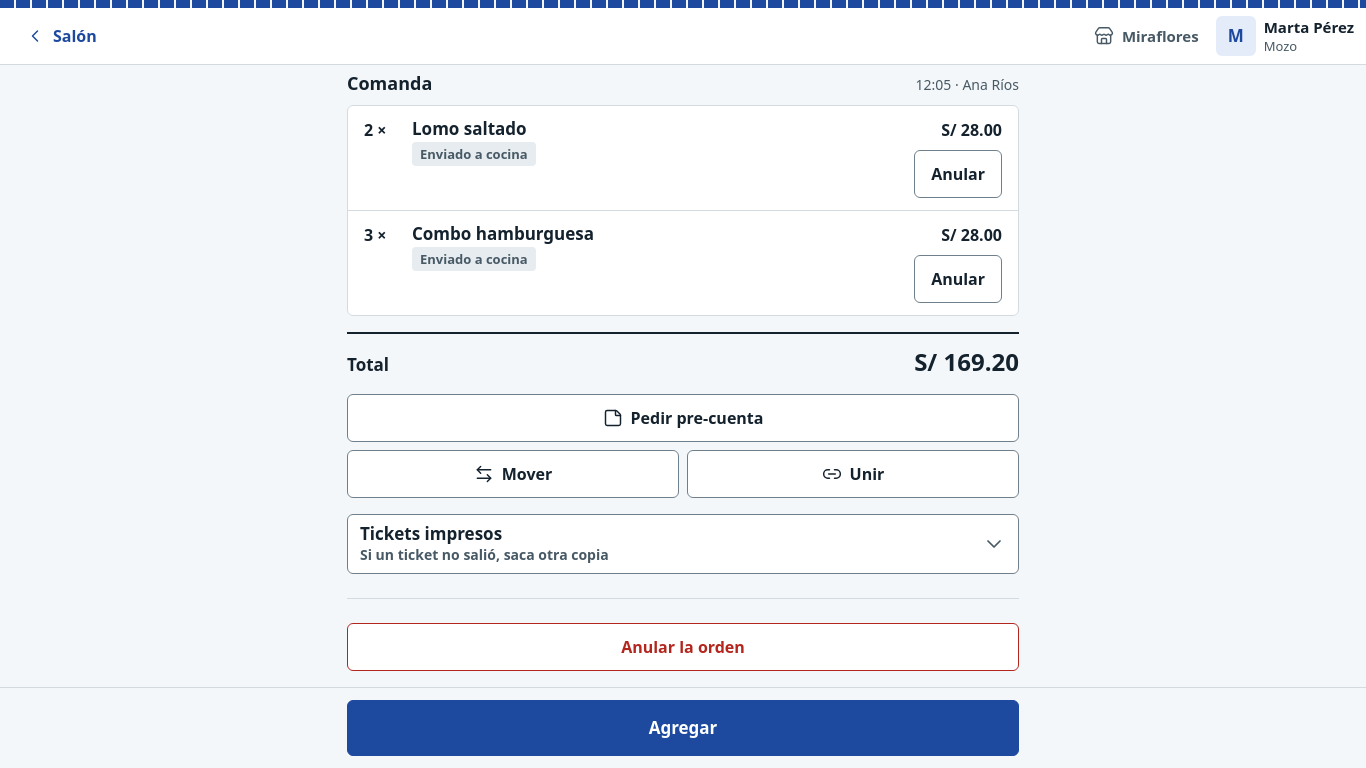
Scenario: Pedir la pre-cuenta (criterios 50 y 95) › si la cuenta se llenó mientras tanto, lo dice con palabras
(page scrolled)
Click the button "Pedir pre-cuenta" at [683, 418], box [347,394,1019,442]
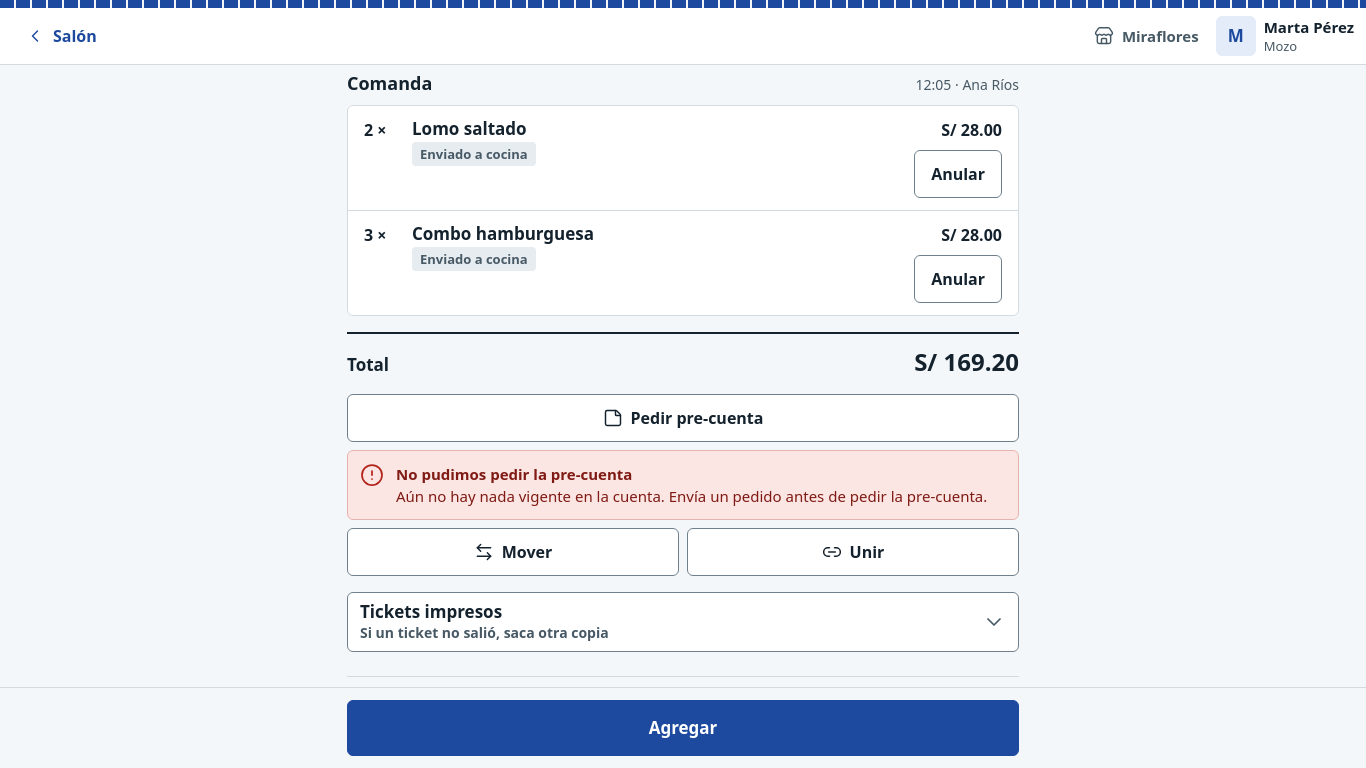
Expected: the message shows "No pudimos pedir la pre-cuenta", [396,464,632,484]
Expected: the message shows "Aún no hay nada vigente en la cuenta", [396,486,987,506]
